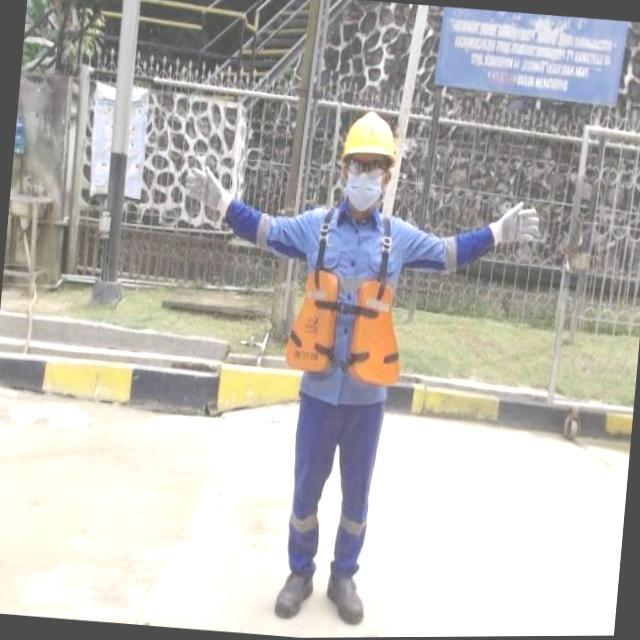goggles_on: (337, 152, 399, 182)
